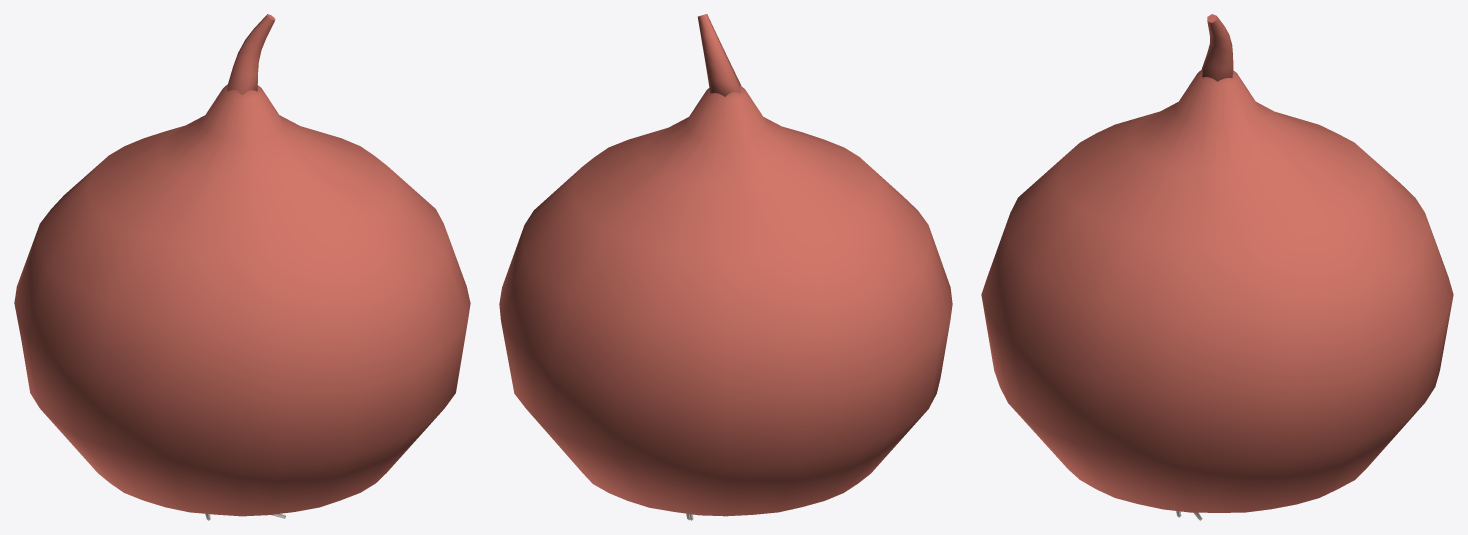
File: food_onion.glb
3 views of the same model, side by side, from view 1: azimuth 30°, elevation 25°; view 2: azimuth 150°, elevation 25°; view 3: azimuth 270°, elevation 25° (orthographic). The views are drawn at different scales.
Parts seen in each view (by area): view 1: PART; view 2: PART; view 3: PART.
Boxes of the visible parts, x1=… form: PART: x1=14, y1=14, x2=470, y2=520; PART: x1=499, y1=14, x2=952, y2=520; PART: x1=981, y1=14, x2=1453, y2=520.
Size of the model in its own units: 0.0891 by 0.1033 by 0.0902.
